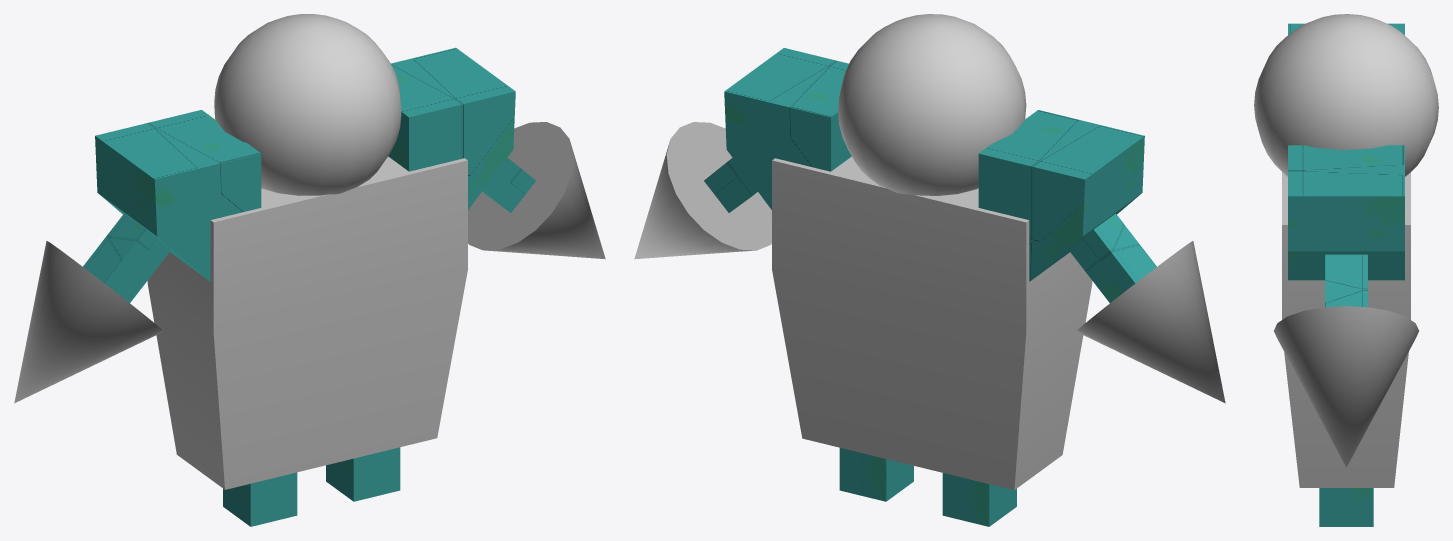
Rendered from LargeDemonNoSkeleton.fbx.
3 renders of one model, left to right at view 1: azimuth 30°, elevation 25°; view 2: azimuth 150°, elevation 25°; view 3: azimuth 270°, elevation 25°, orthographic. The views are drawn at different scales.
Parts seen in each view (by area): view 1: Largedemon; view 2: Largedemon; view 3: Largedemon.
Boxes of the visible parts, left/top/right/bottom form: Largedemon: left=14, top=14, right=605, bottom=526; Largedemon: left=634, top=14, right=1225, bottom=526; Largedemon: left=1254, top=14, right=1438, bottom=526.
Size of the model in its own units: 4.02 by 3.1 by 1.11.
